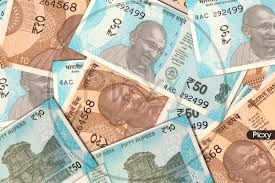fifty: (96, 8, 231, 92)
